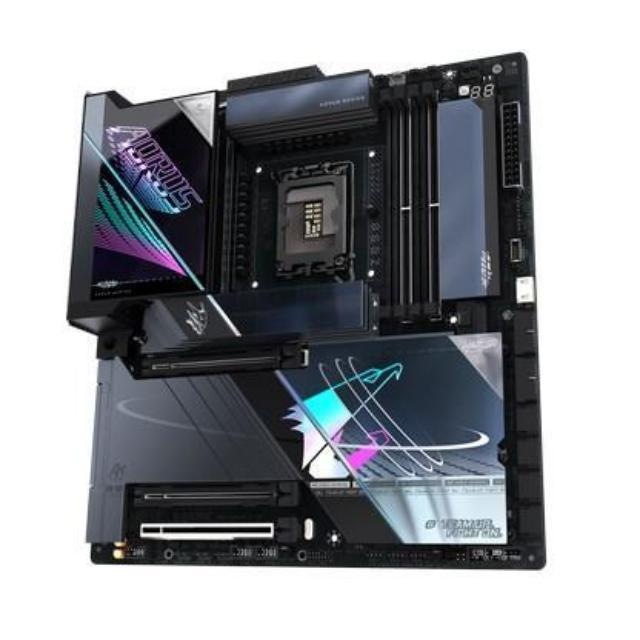Mainboard: (65, 44, 557, 582)
